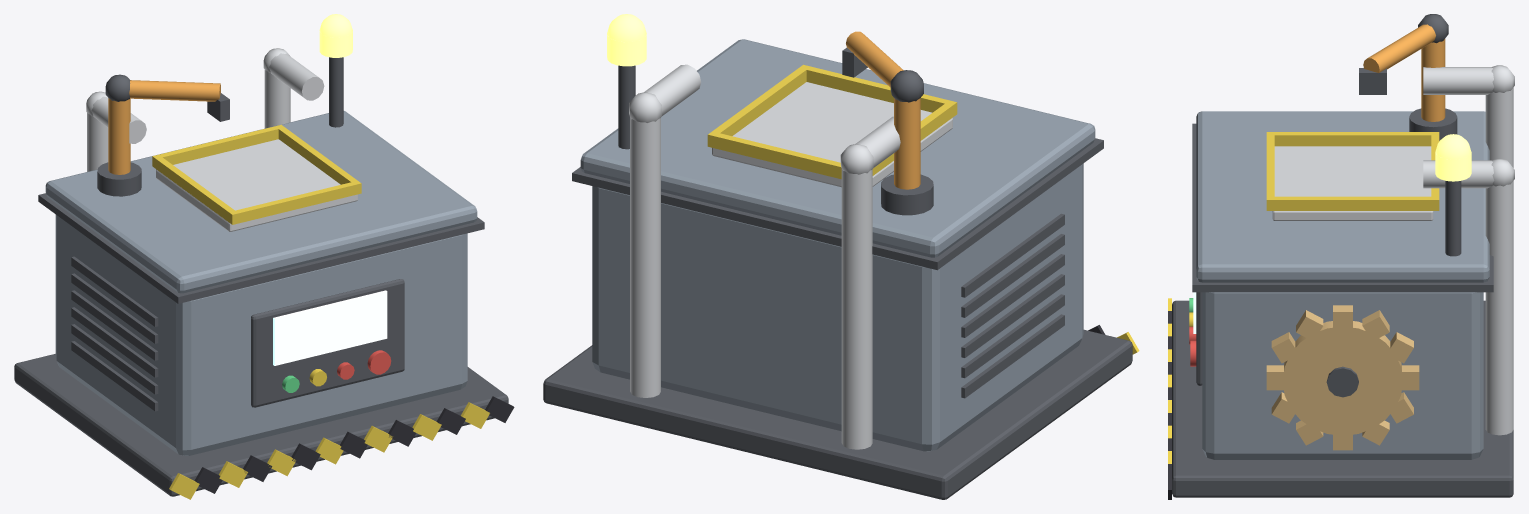
File: MaquinaFabrica.fbx
The picture shows the model from 3 angles, left to right: view 1: azimuth 30°, elevation 25°; view 2: azimuth 150°, elevation 25°; view 3: azimuth 270°, elevation 25°; orthographic projection. The views are drawn at different scales.
Visible parts, largest first — view 1: Cuerpo, Pantalla, Brazo, Baliza; view 2: Cuerpo, Brazo, Baliza; view 3: Cuerpo, Engranaje, Brazo, Baliza.
Part boxes in pixels (box(x1,y1,x2,y2)): Cuerpo: box(14, 48, 514, 499); Pantalla: box(273, 290, 387, 365); Brazo: box(97, 74, 229, 196); Baliza: box(319, 14, 352, 57); Cuerpo: box(543, 39, 1139, 499); Brazo: box(842, 31, 933, 215); Baliza: box(607, 14, 646, 66); Cuerpo: box(1168, 65, 1514, 499); Engranaje: box(1266, 305, 1419, 450); Brazo: box(1359, 14, 1457, 140); Baliza: box(1435, 134, 1471, 181).
Size of the model in its own units: 2.13 by 1.9 by 1.73.
